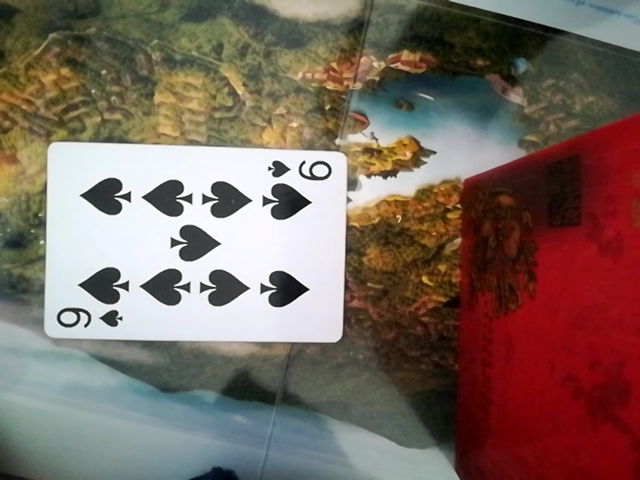ht 9: (40, 144, 348, 345)
